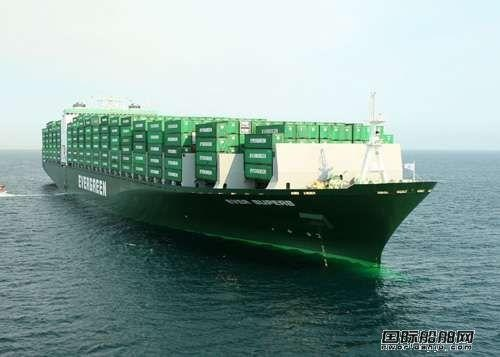Cargoship: (36, 92, 442, 276)
